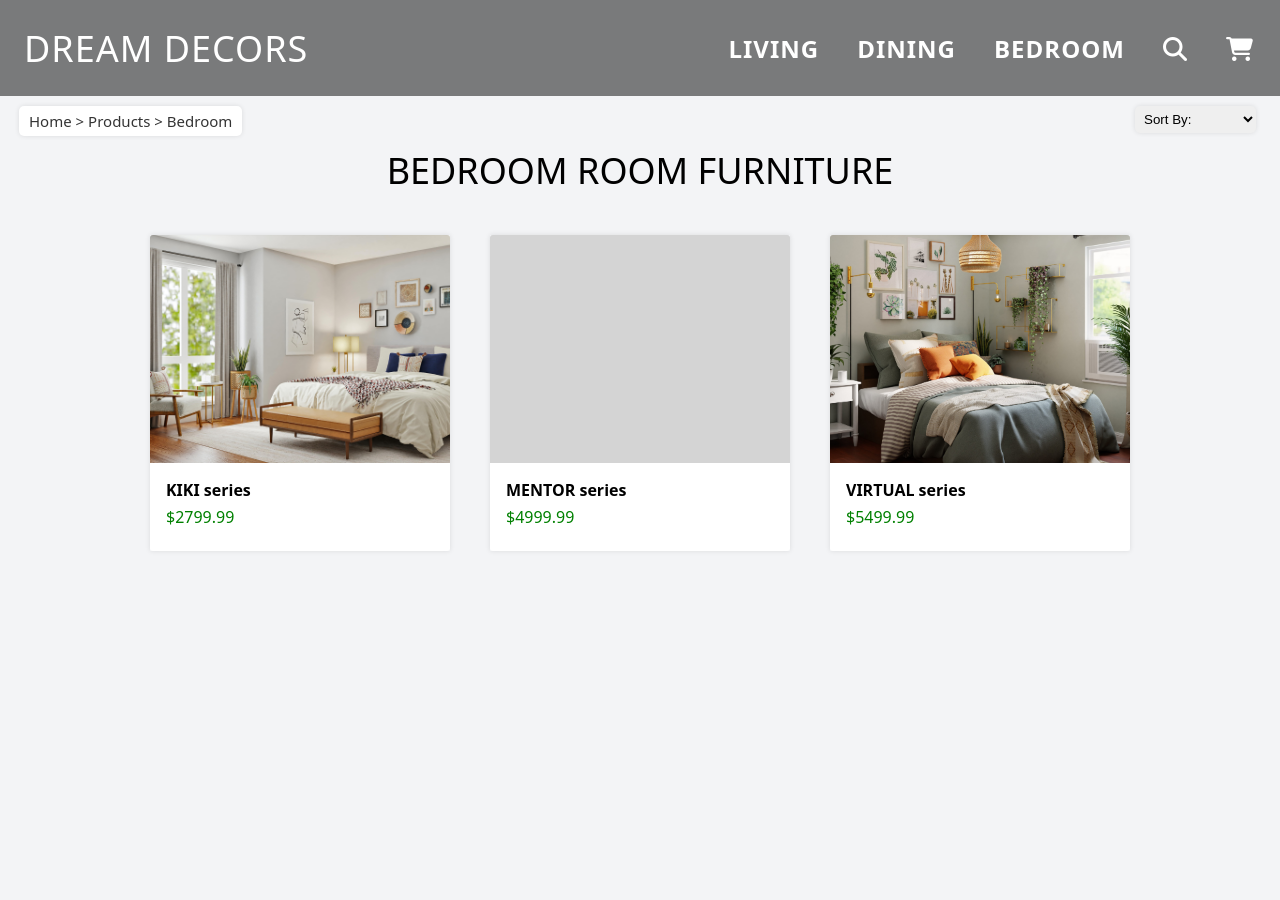
Nav Links work Correctly › Clicking on search icon loads search component
The width and height of the screenshot is (1280, 900).
Click the icon with test id "search" at [1176, 48], box [1163,36,1188,60]
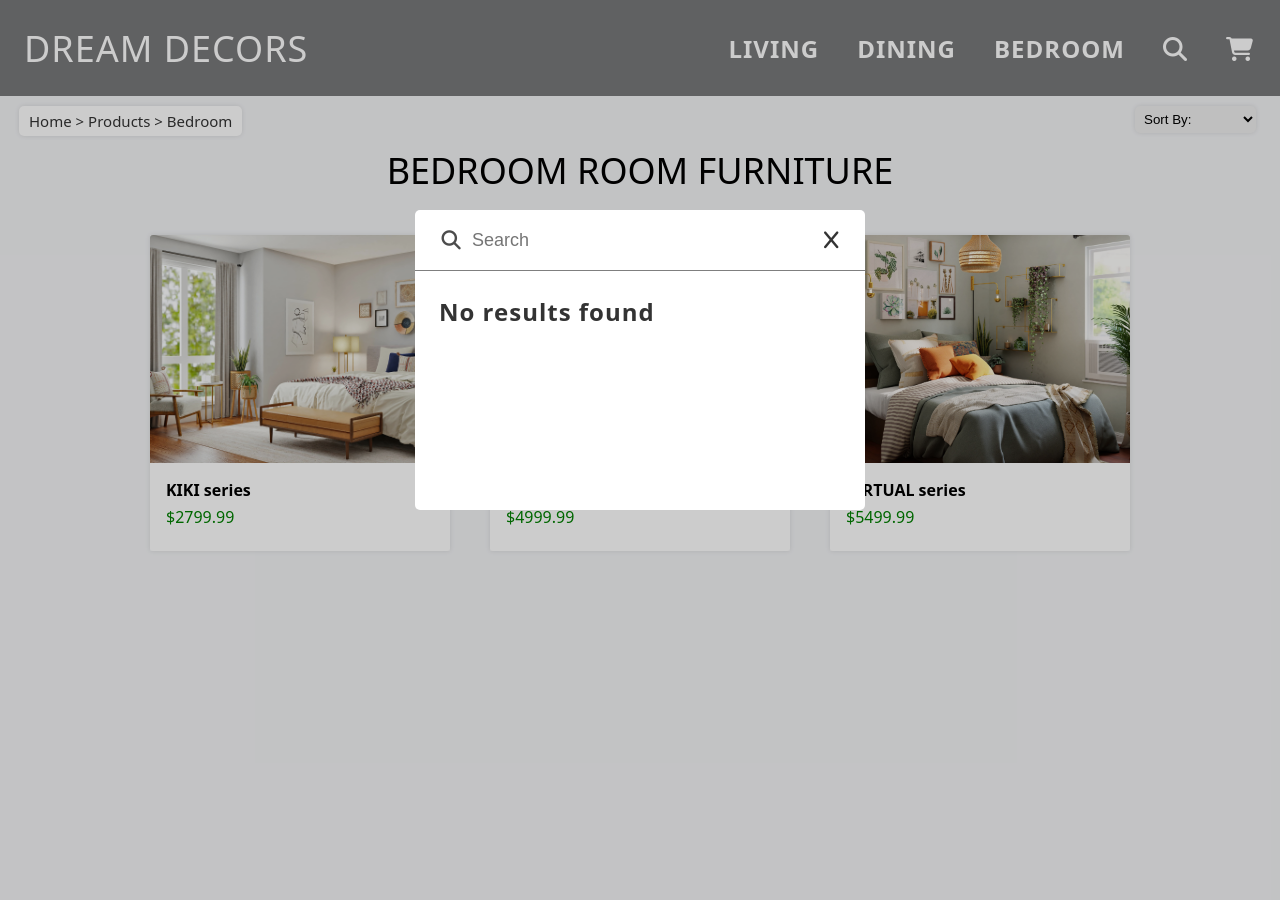
Expected: the text "No results found" is shown, [439,295,655,328]
